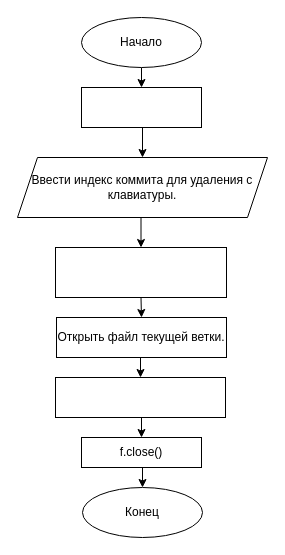
Some shapes in this 285 by 555 pixel diagram are drawn without their labels. The shapes that lost their labels are listed below. From the top down, each one's centre as x and y in pixels, then its label:
the point at 141,107: Показать список коммитов текущей ветки.
the point at 140,272: Удалить все коммиты ветки, начиная с выбранного и заканчивая последним.
the point at 140,397: Перезаписать в файл новый список коммитов.
